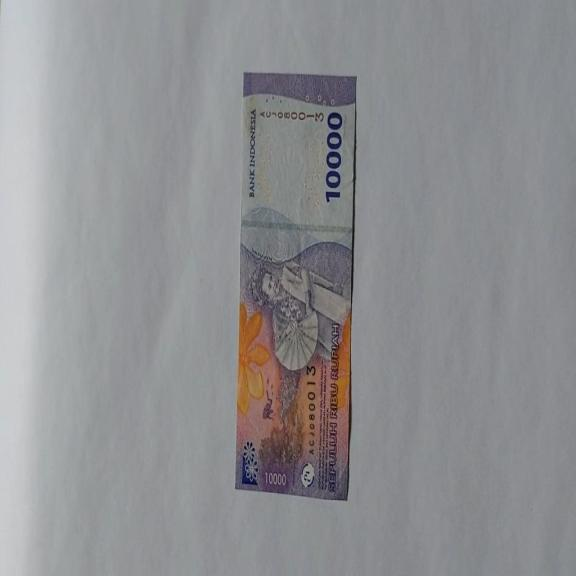Kertas: (235, 71, 357, 501)
